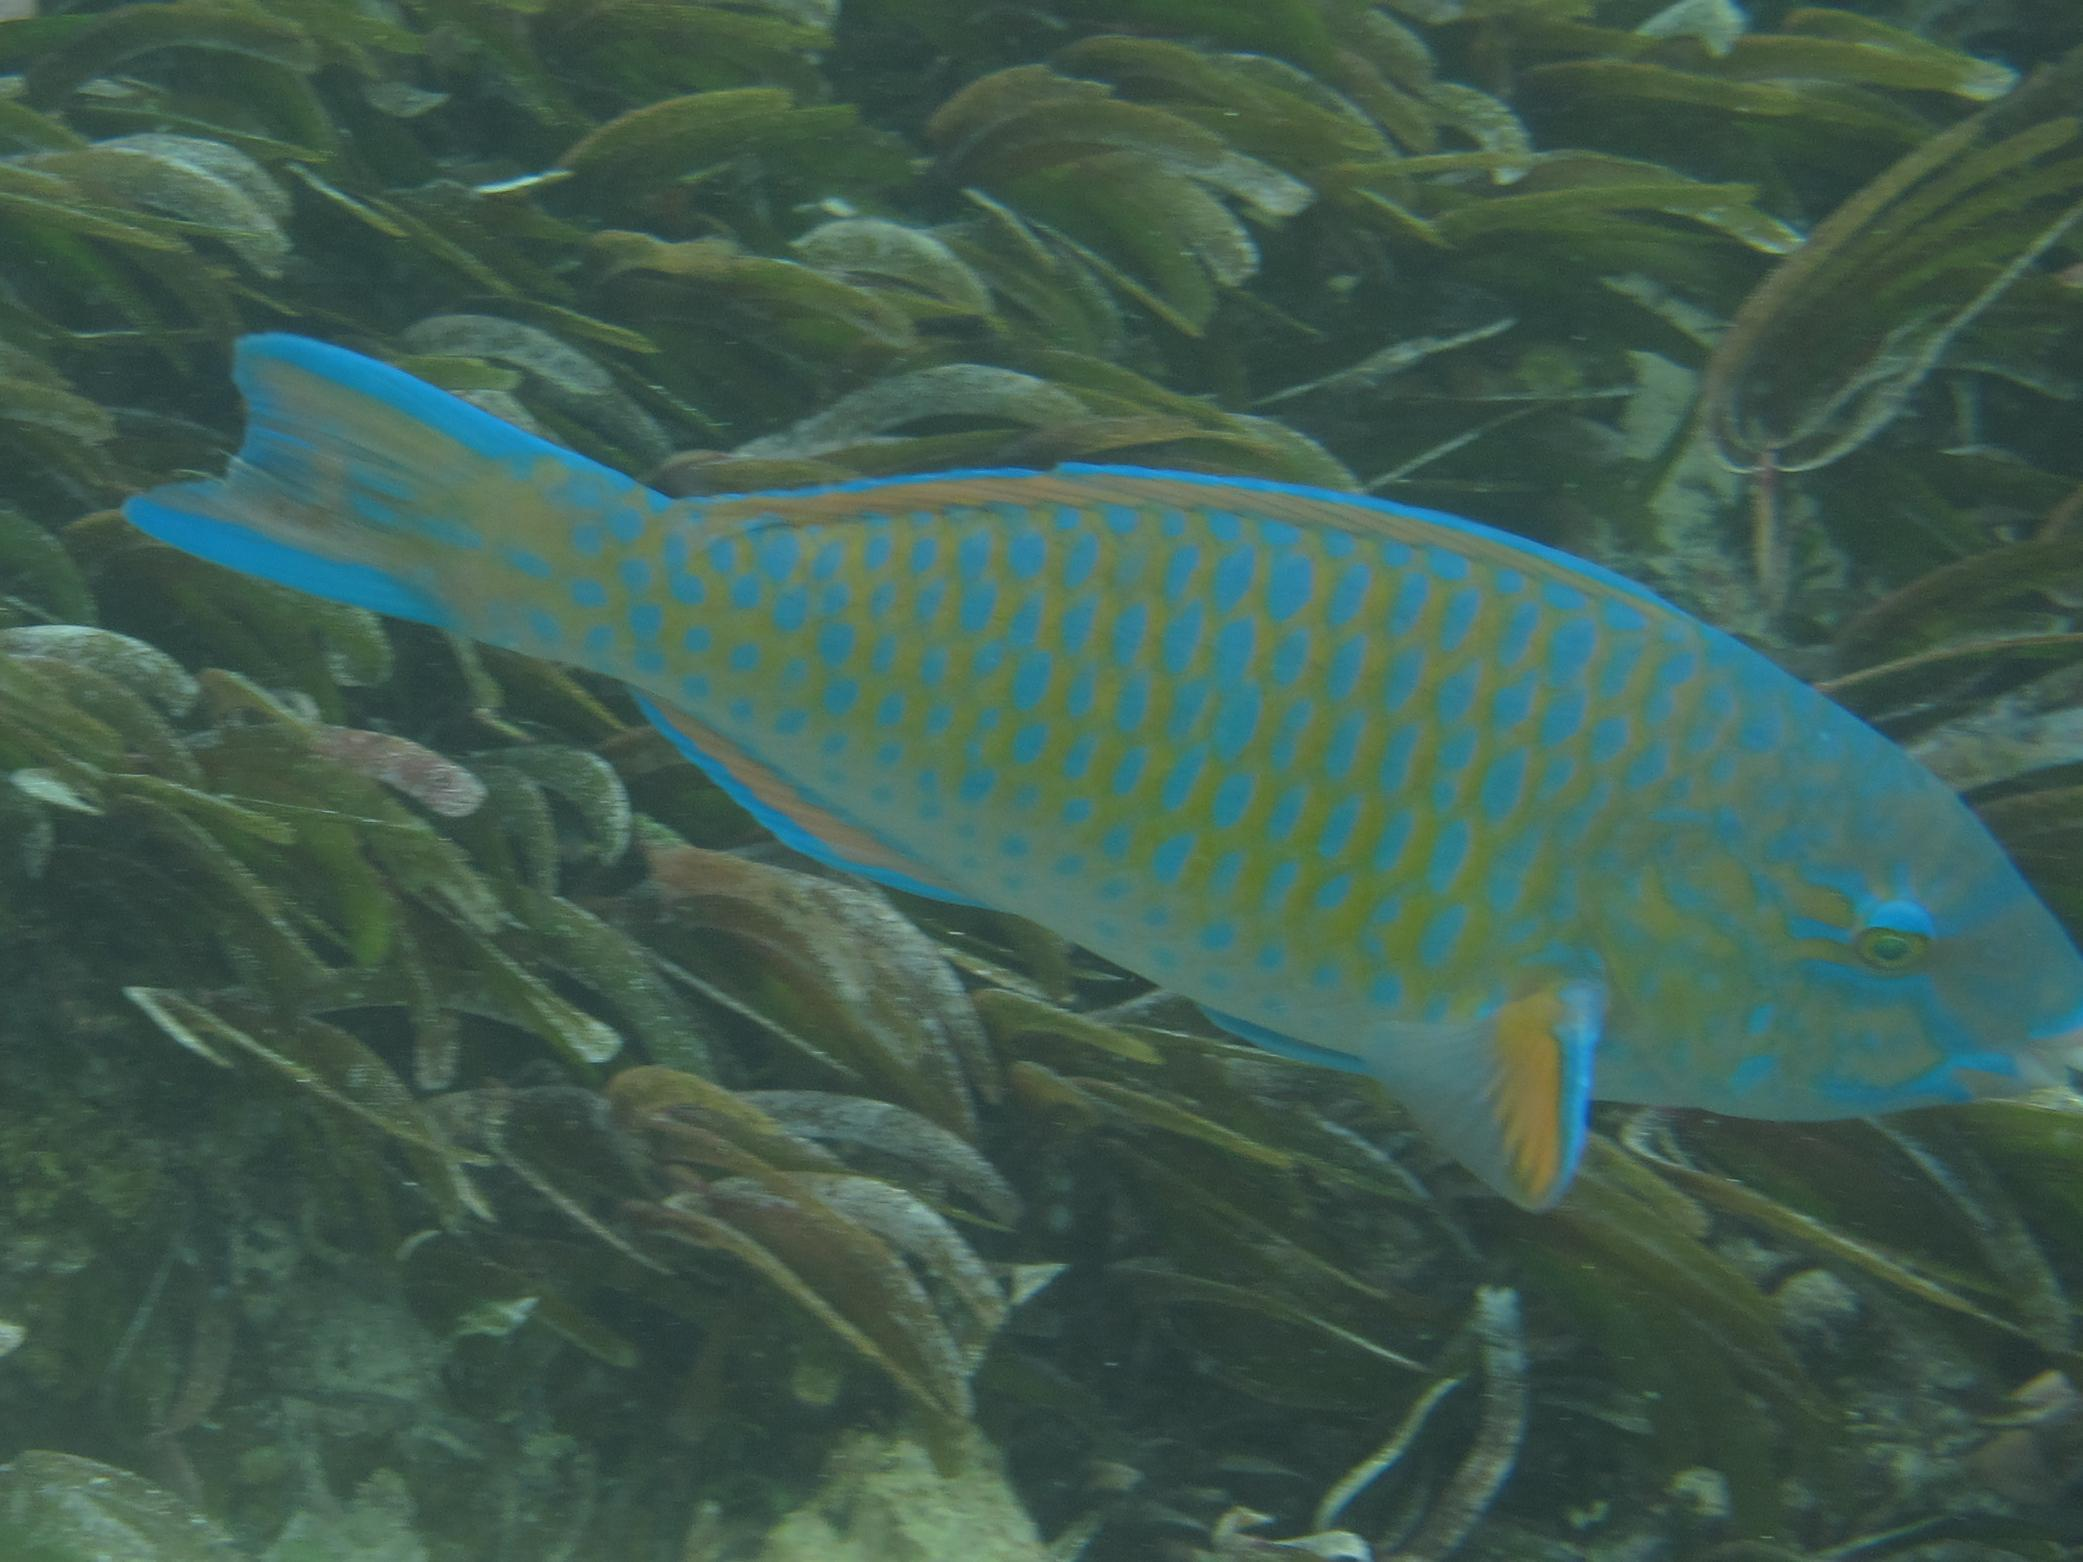Fish: (138, 202, 2083, 1232)
